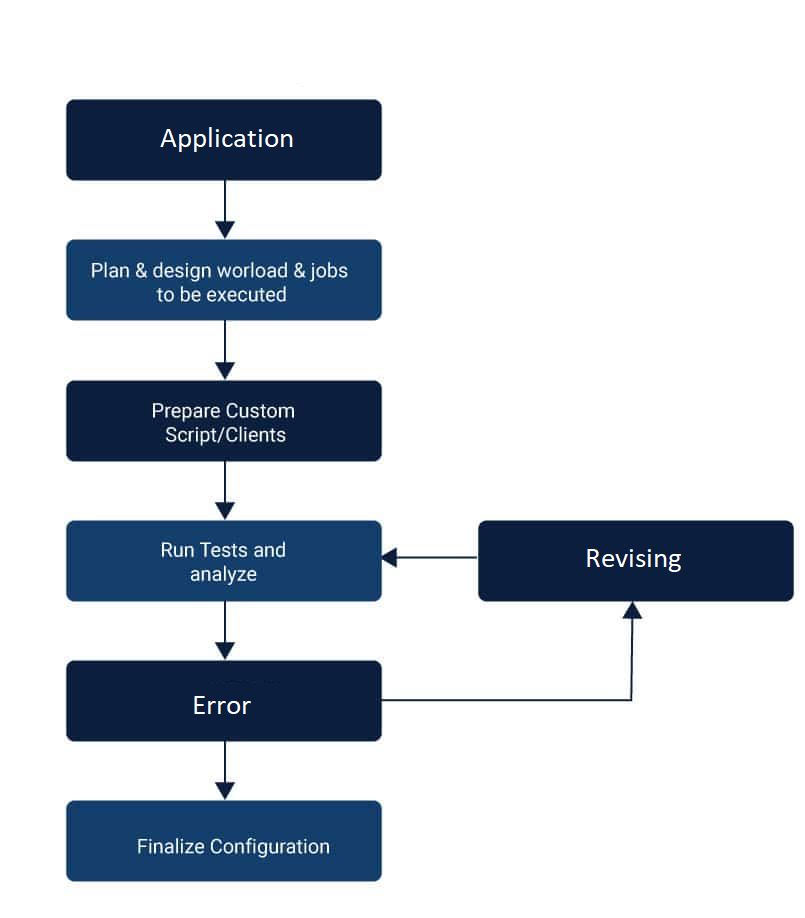arrow: (378, 597, 647, 706), (379, 542, 477, 567), (209, 319, 236, 377), (211, 180, 236, 241), (214, 594, 234, 661), (214, 461, 235, 520), (216, 737, 235, 798)
process: (60, 233, 388, 329), (474, 515, 803, 609), (59, 654, 388, 748), (61, 92, 388, 186), (61, 797, 388, 888), (61, 376, 386, 467), (59, 517, 388, 605)
text: (85, 256, 352, 306), (145, 397, 297, 449), (156, 536, 293, 588), (131, 830, 335, 859), (579, 536, 688, 583), (152, 123, 297, 155), (184, 690, 252, 723)
